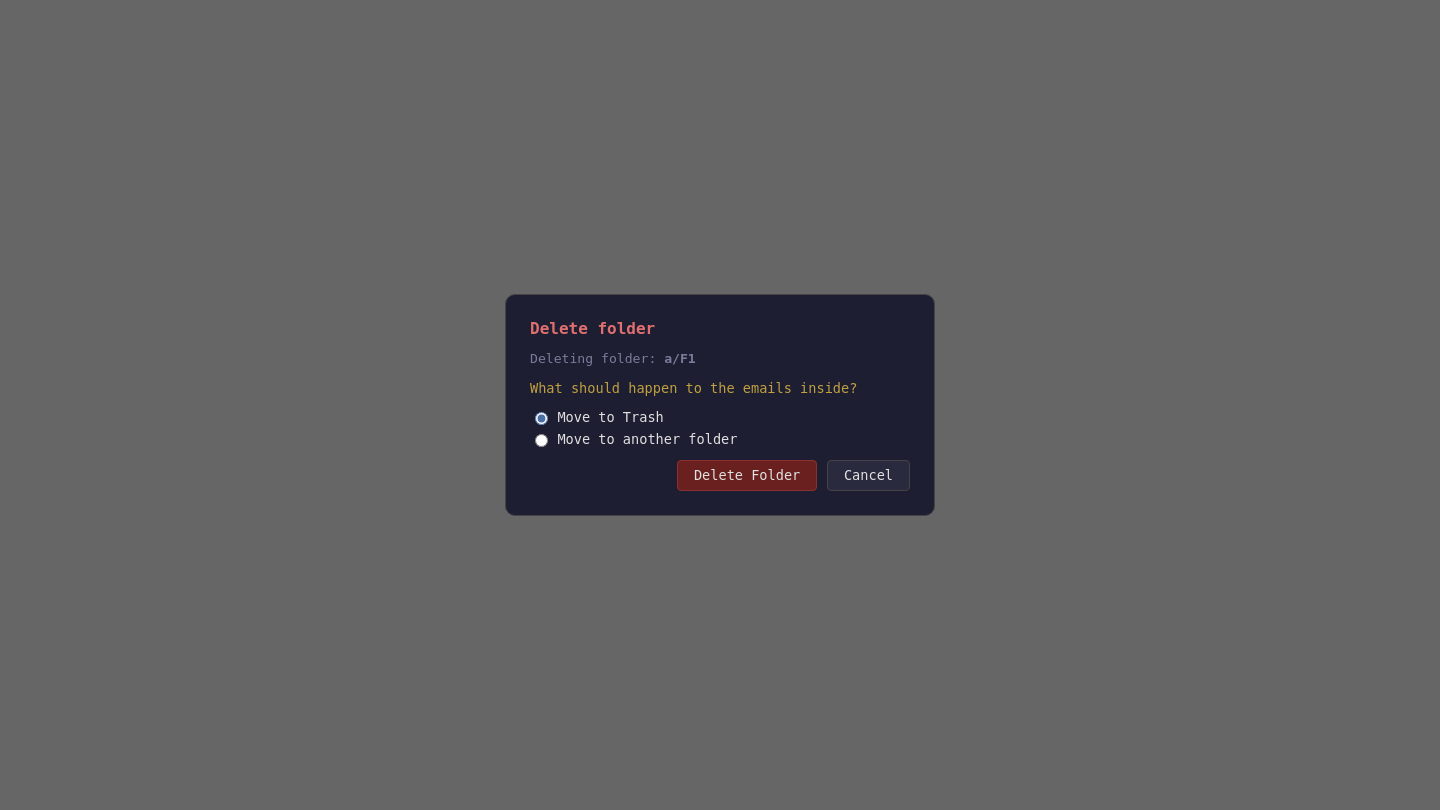
FolderDeleteDialog › shows destination input when 'move' selected
The image size is (1440, 810).
# Select "Move to another folder"
Step 1. Click the radio button showing "move" → (542, 441), box [535,434,548,447]
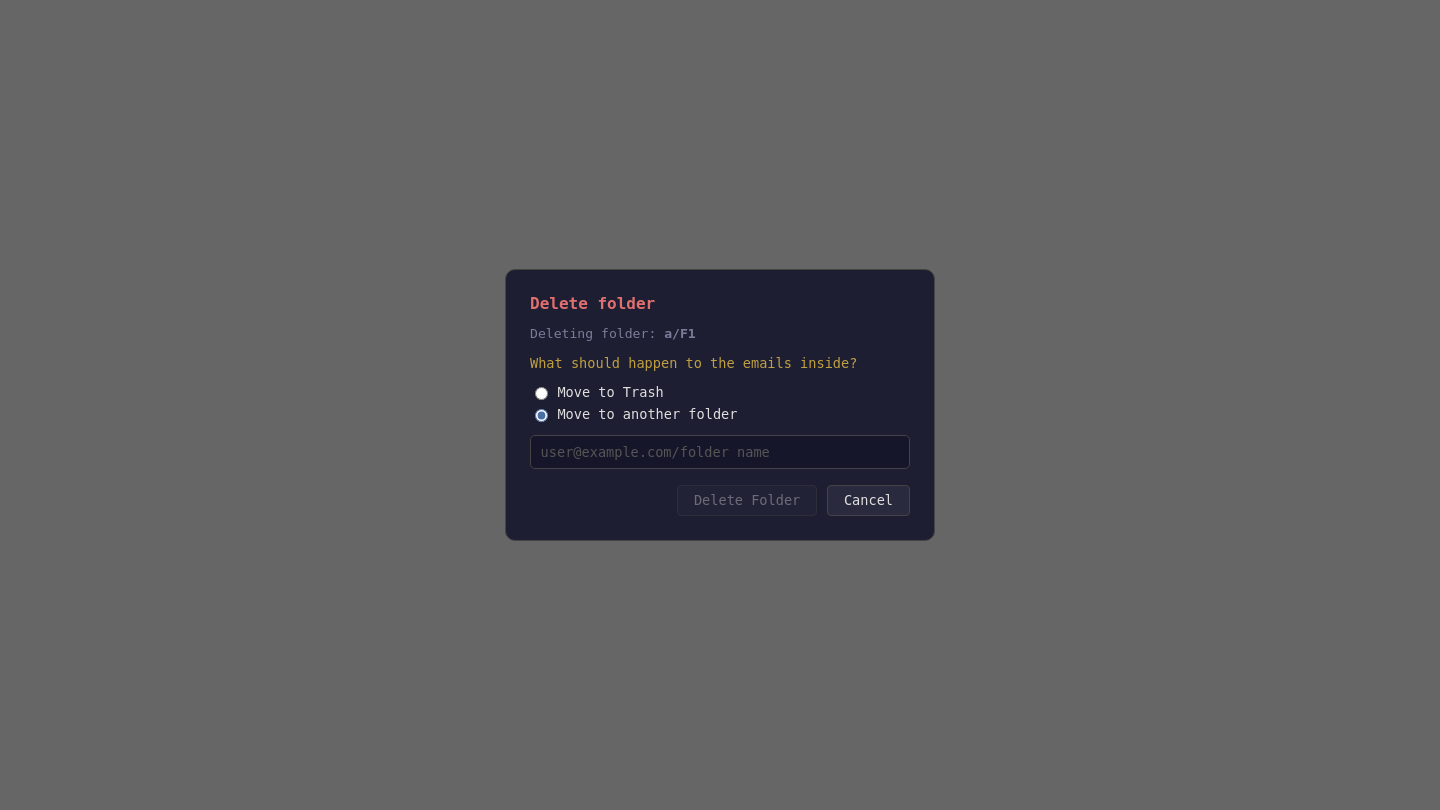
Now the field with placeholder "user@example.com/folder name" is shown, box [530,435,910,469]
